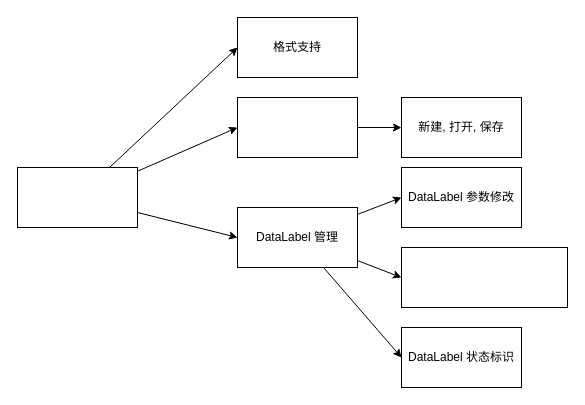
Image size: 585x405. Some labels were removed from this diagram. Here are the shapes that lost their labels. From the top down, the box of each, then its label:
(236, 96, 358, 158): Document 管理
(16, 166, 138, 228): RedPanda 业务逻辑模块
(400, 246, 568, 308): DataLabel 引用 - DAG引用
